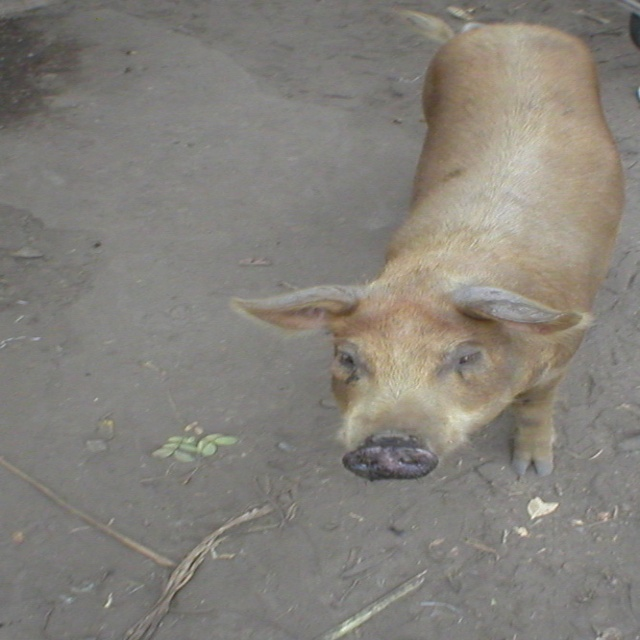Pig: (220, 10, 624, 482)
